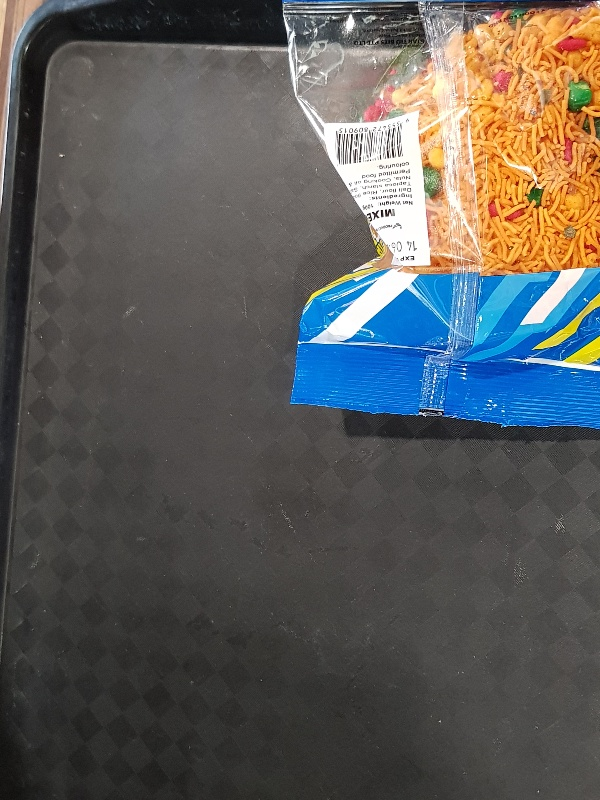Star Tidbits Mixer: (278, 1, 600, 429)
